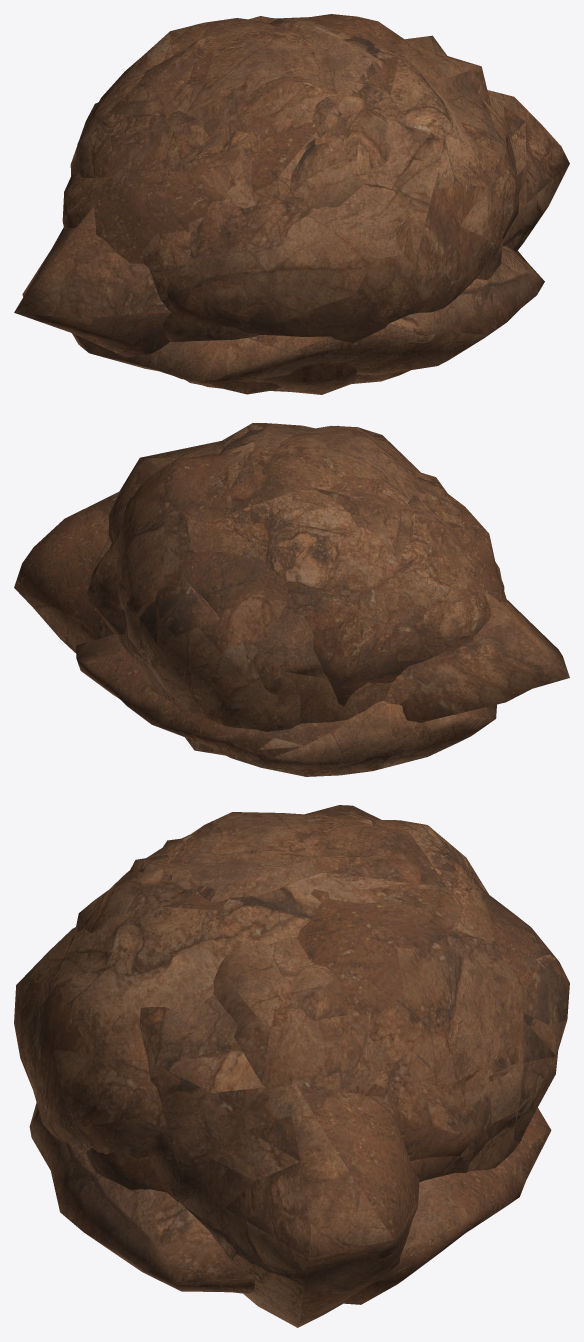
File: rocks_mars.glb
3 views of the same model, one above another, from view 1: azimuth 30°, elevation 25°; view 2: azimuth 150°, elevation 25°; view 3: azimuth 270°, elevation 25° (orthographic). The views are drawn at different scales.
Parts seen in each view (by area): view 1: Rock_0, Rock_1, Rock_2, Rock_5, Rock_4, Rock_3; view 2: Rock_1, Rock_0, Rock_5, Rock_4, Rock_2, Rock_3; view 3: Rock_0, Rock_1, Rock_5, Rock_4, Rock_3, Rock_2.
Part boxes in pixels (bbox=[...]): Rock_0: bbox=[73, 16, 521, 365]; Rock_1: bbox=[75, 14, 502, 385]; Rock_2: bbox=[62, 18, 491, 391]; Rock_5: bbox=[14, 90, 569, 394]; Rock_4: bbox=[72, 246, 544, 383]; Rock_3: bbox=[166, 35, 518, 394]; Rock_1: bbox=[116, 425, 504, 723]; Rock_0: bbox=[106, 423, 450, 731]; Rock_5: bbox=[14, 491, 569, 722]; Rock_4: bbox=[76, 634, 496, 776]; Rock_2: bbox=[108, 423, 507, 706]; Rock_3: bbox=[85, 435, 462, 755]; Rock_0: bbox=[14, 805, 569, 1181]; Rock_1: bbox=[75, 812, 524, 1192]; Rock_5: bbox=[181, 1079, 419, 1327]; Rock_4: bbox=[29, 1103, 551, 1304]; Rock_3: bbox=[139, 838, 484, 1202]; Rock_2: bbox=[128, 855, 480, 1170].
Size of the model in its own units: 1.36 by 0.7468 by 0.9265.
1 material, 1 textured.
